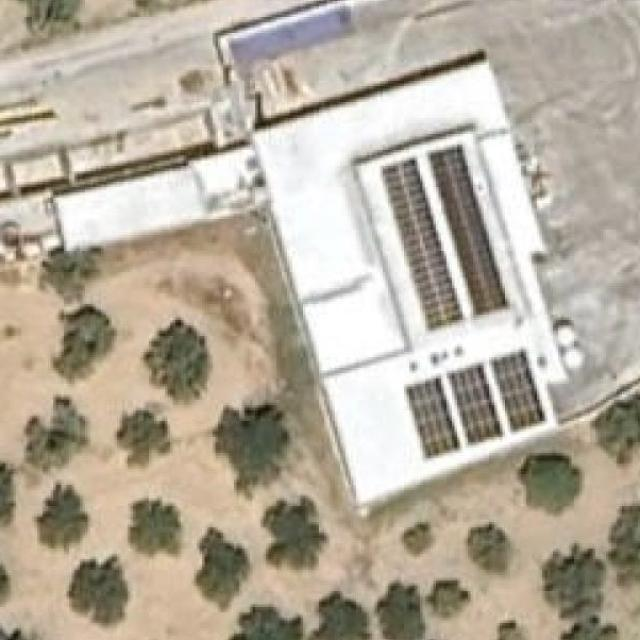Tree: (212, 403, 289, 488), (143, 320, 210, 400), (13, 400, 87, 472), (518, 451, 582, 520), (544, 546, 606, 616), (57, 311, 114, 384), (69, 557, 128, 624), (263, 495, 324, 557), (128, 496, 186, 560), (197, 528, 250, 596), (592, 394, 640, 469), (116, 410, 172, 469), (34, 485, 87, 546), (311, 589, 372, 640), (225, 604, 308, 640), (374, 583, 425, 640), (464, 522, 512, 578), (608, 506, 640, 586), (10, 0, 80, 36), (424, 577, 470, 618), (555, 612, 622, 640), (0, 463, 16, 532), (404, 522, 436, 554), (494, 620, 526, 640), (0, 623, 35, 640), (0, 551, 9, 612)
